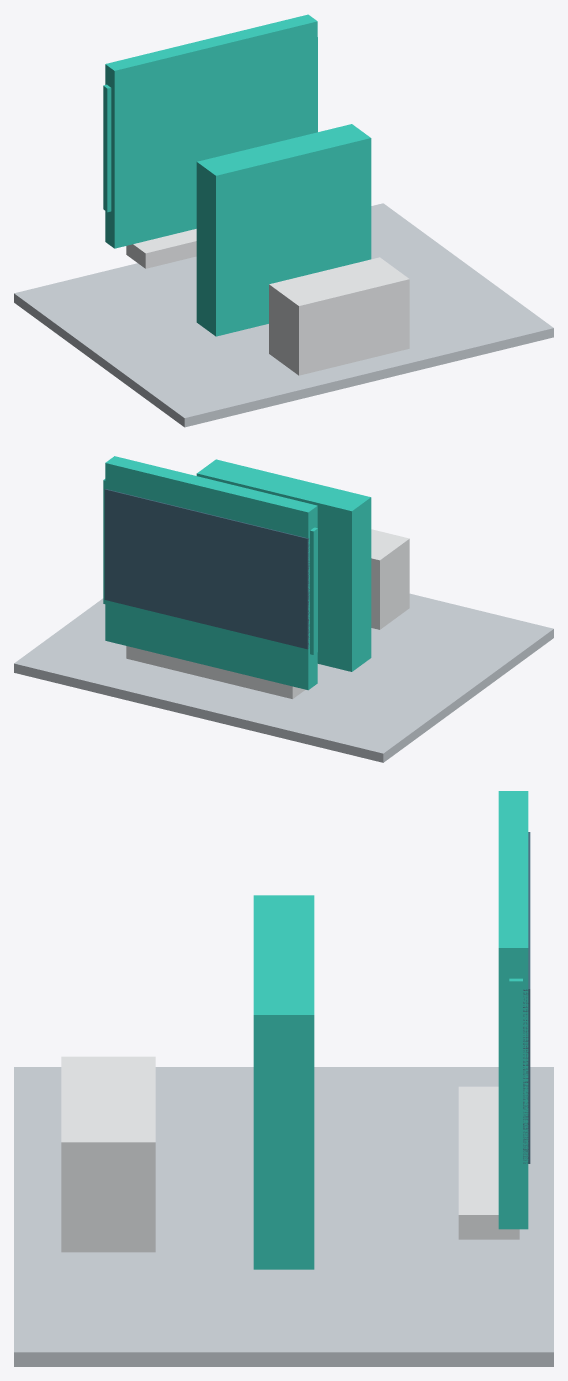
3 views of the same model, one above another, from view 1: azimuth 30°, elevation 25°; view 2: azimuth 150°, elevation 25°; view 3: azimuth 270°, elevation 25° (orthographic). The views are drawn at different scales.
Visible parts, largest first — view 1: Exhibition Booth Concept; view 2: Exhibition Booth Concept; view 3: Exhibition Booth Concept.
Part boxes in pixels (box(x1,y1,x2,y2)): Exhibition Booth Concept: box(14, 14, 553, 427); Exhibition Booth Concept: box(14, 456, 553, 762); Exhibition Booth Concept: box(14, 791, 553, 1366).
Bounding box in the file's own units: 5 × 2.9 × 4.
